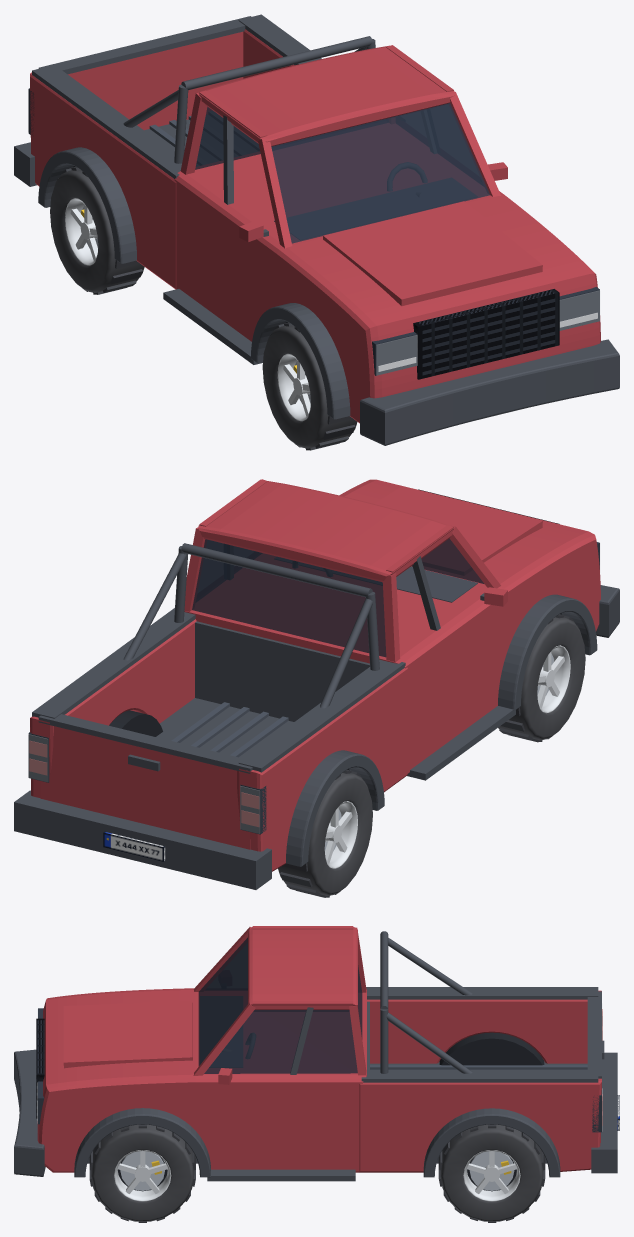
Rendered from car_pickup.glb.
3 renders of one model, top to bottom at view 1: azimuth 30°, elevation 25°; view 2: azimuth 150°, elevation 25°; view 3: azimuth 270°, elevation 25°, orthographic. The views are drawn at different scales.
Parts seen in each view (by area): view 1: chassis, PickupCabBody, CabinGreenhouse, SculptedRoof, PickupFrontBumper, wheel_FR_spin, wheel_RR_spin, InteriorCabin, headlight_R_housing, headlight_L_housing; view 2: chassis, PickupCabBody, CabinGreenhouse, SculptedRoof, wheel_RR_spin, wheel_FR_spin, InteriorCabin, taillight_R_housing, PickupFrontBumper, taillight_L_housing; view 3: chassis, PickupCabBody, CabinGreenhouse, SculptedRoof, wheel_RL_spin, wheel_FL_spin, PickupFrontBumper, InteriorCabin.
Boxes of the visible parts, x1,y1,x2,y2 form: chassis: (14, 14, 559, 419); PickupCabBody: (174, 123, 600, 423); CabinGreenhouse: (180, 45, 500, 248); SculptedRoof: (198, 45, 454, 146); PickupFrontBumper: (360, 339, 619, 445); wheel_FR_spin: (262, 322, 357, 450); wheel_RR_spin: (50, 166, 144, 294); InteriorCabin: (274, 162, 477, 239); headlight_R_housing: (372, 332, 417, 375); headlight_L_housing: (559, 287, 599, 330); chassis: (14, 486, 597, 889); PickupCabBody: (184, 479, 600, 773); CabinGreenhouse: (184, 479, 500, 662); SculptedRoof: (198, 481, 454, 582); wheel_RR_spin: (278, 769, 372, 897); wheel_FR_spin: (498, 614, 585, 742); InteriorCabin: (275, 557, 477, 602); taillight_R_housing: (240, 784, 266, 834); PickupFrontBumper: (596, 585, 619, 637); taillight_L_housing: (28, 732, 49, 782); chassis: (36, 931, 619, 1181); PickupCabBody: (37, 988, 366, 1172); CabinGreenhouse: (193, 926, 366, 1075); SculptedRoof: (248, 927, 357, 1011); wheel_RL_spin: (438, 1124, 545, 1222); wheel_FL_spin: (89, 1124, 195, 1222); PickupFrontBumper: (14, 1049, 45, 1176); InteriorCabin: (200, 996, 255, 1067).
Bounding box in the file's own units: 2.1 × 1.93 × 5.07.
18 materials, 2 textured.
